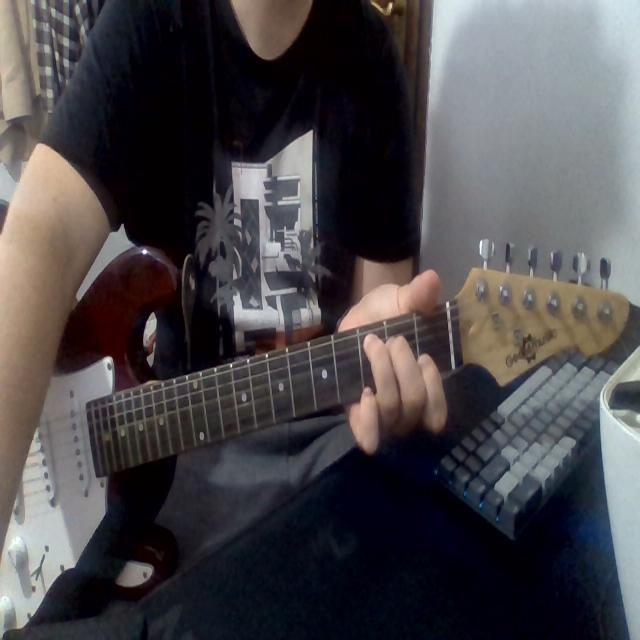Chord: (347, 311, 479, 445)
